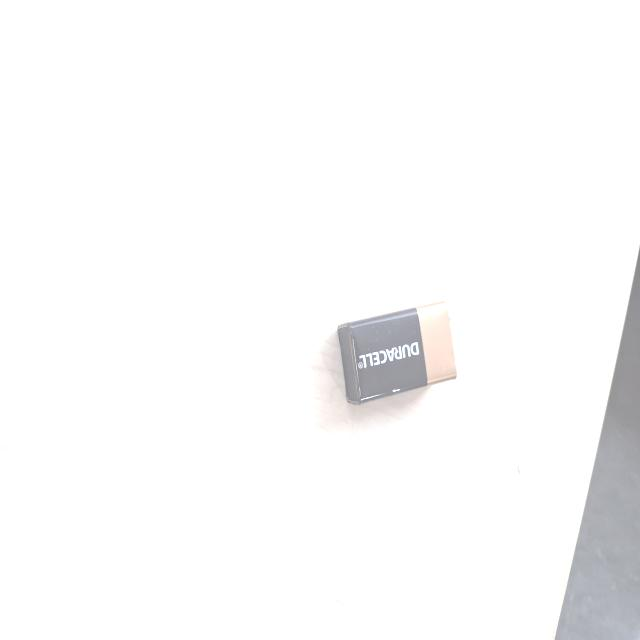9V: (224, 243, 304, 404)
